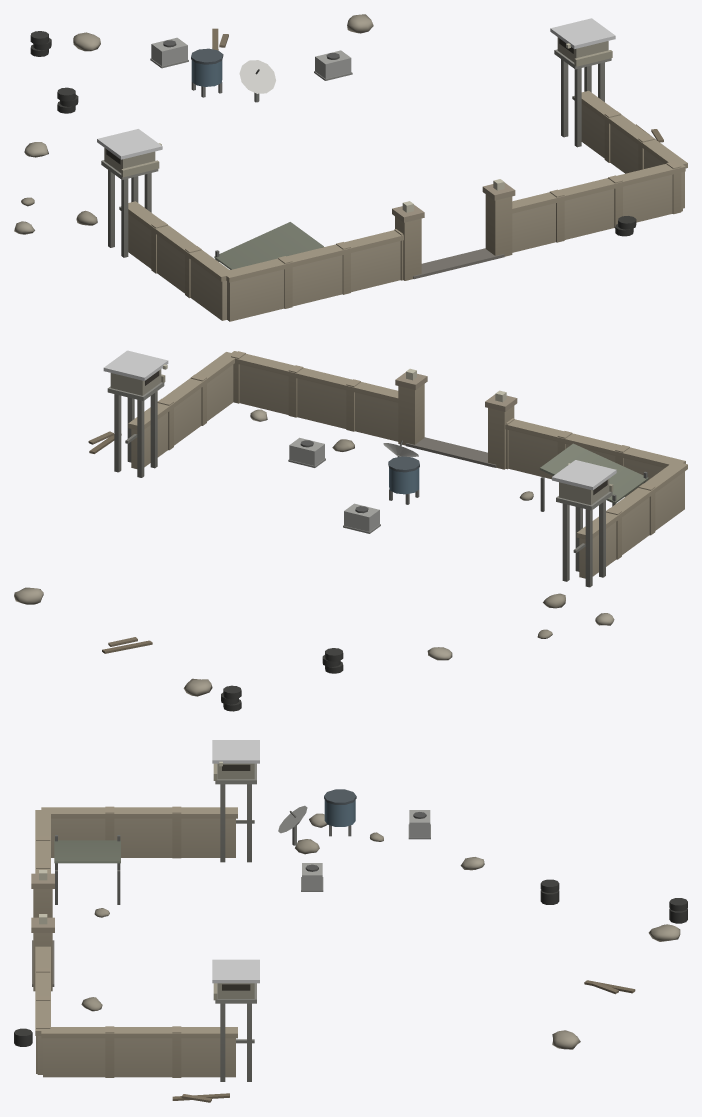
Rendered from m_barracks_516ea7e0.glb.
3 views of the same model, one above another, from view 1: azimuth 30°, elevation 25°; view 2: azimuth 150°, elevation 25°; view 3: azimuth 270°, elevation 25° (orthographic).
Visible parts, largest first — view 1: mesh; view 2: mesh; view 3: mesh.
Part boxes in pixels (x1,y1,x2,y2): mesh: [14, 14, 687, 321]; mesh: [14, 350, 687, 711]; mesh: [14, 740, 687, 1102].
Size of the model in its own units: 90.5 by 18.43 by 90.79.
